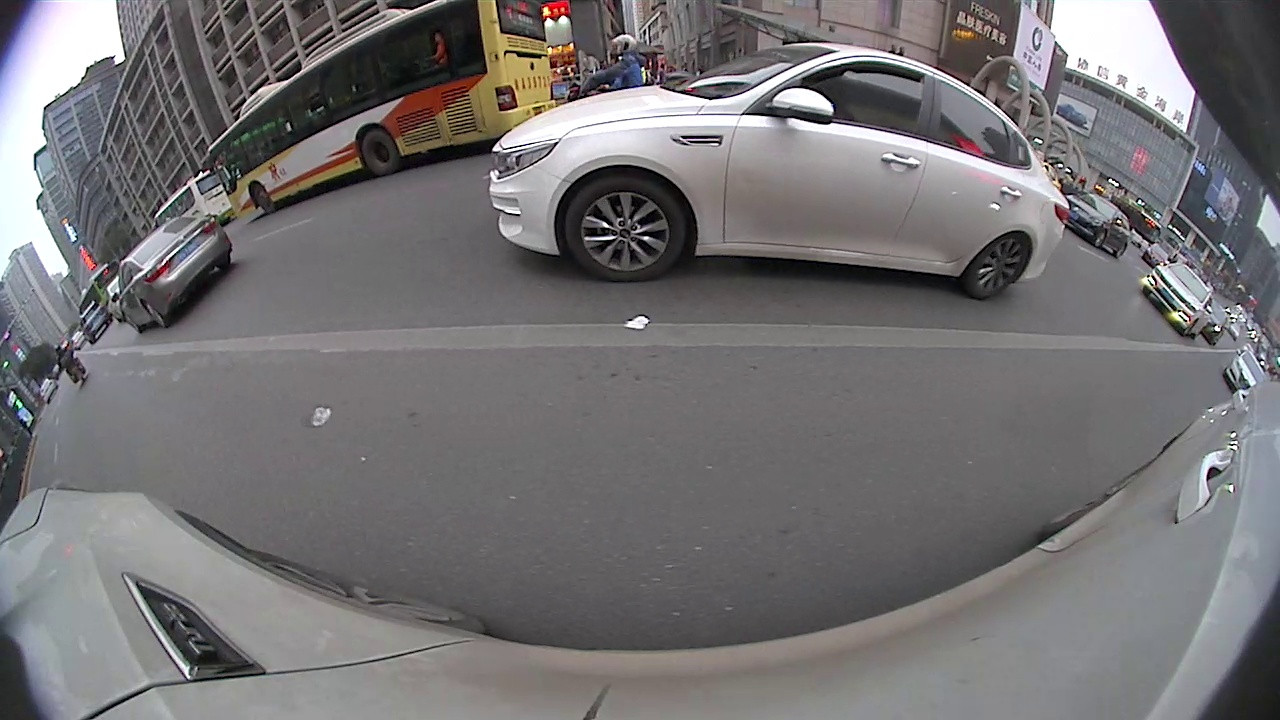bus: (203, 0, 558, 226)
car: (487, 42, 1074, 300), (109, 211, 236, 334), (1140, 262, 1221, 338), (1060, 196, 1136, 262), (1226, 349, 1268, 396)
front: (563, 174, 686, 282), (1093, 227, 1109, 250)
rear: (962, 232, 1029, 302), (359, 127, 400, 174), (142, 302, 167, 330)
rider: (58, 346, 89, 389)
